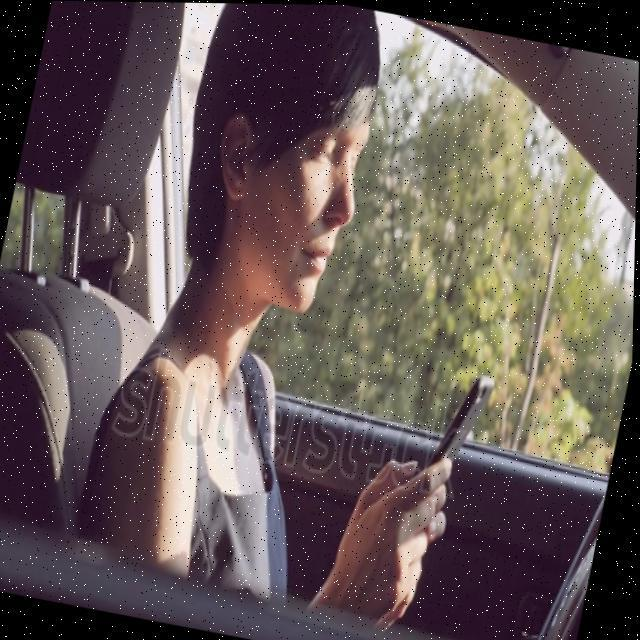PhoneCall: (412, 360, 498, 514)
